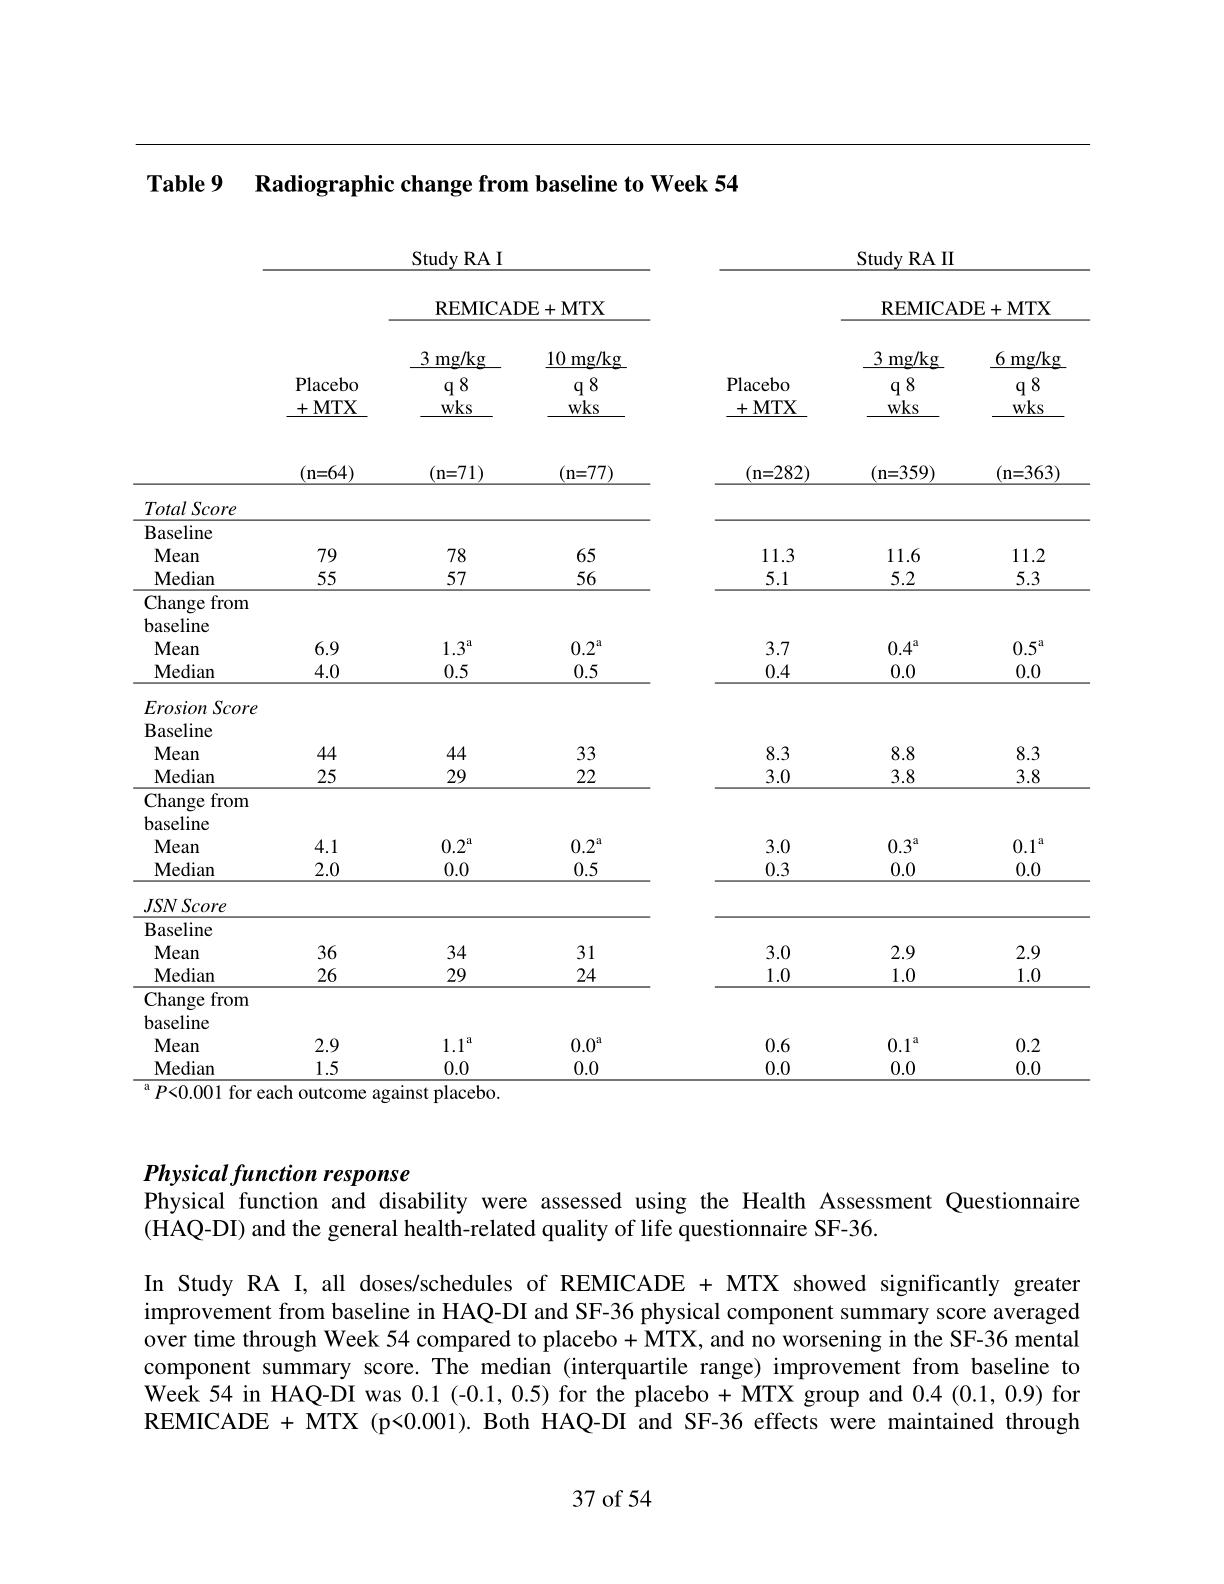partial_lined_merged_cells: (127, 239, 1097, 1083)
